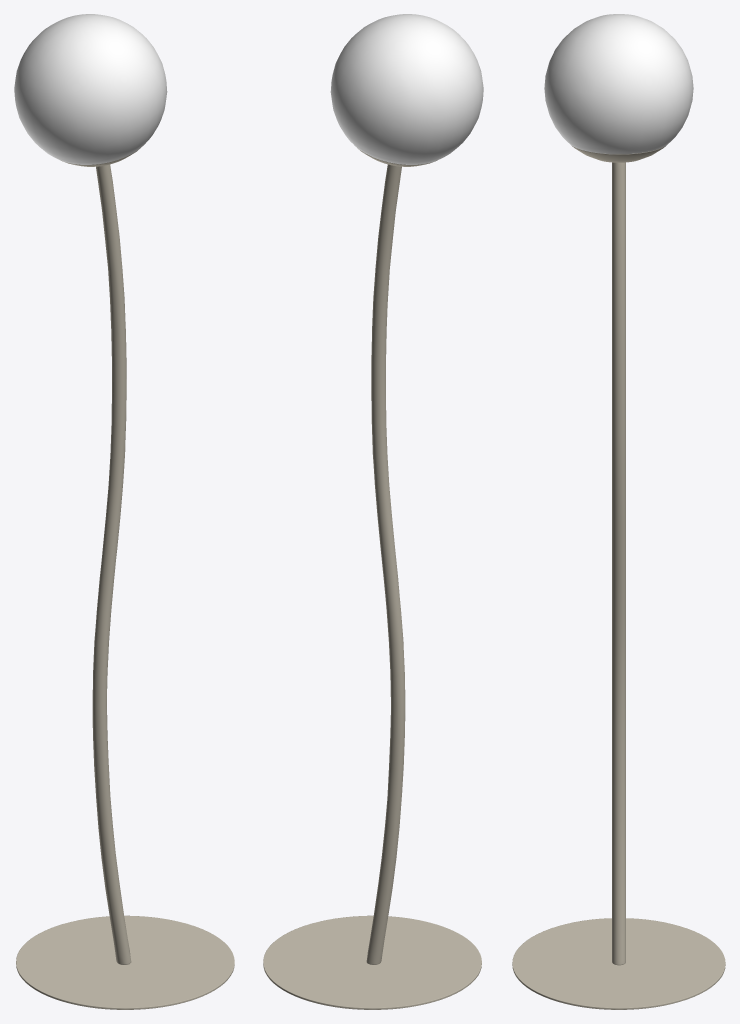
File: solvinden-solar-floor-lamp-outdoor-beige.glb
The picture shows the model from 3 angles, left to right: view 1: azimuth 30°, elevation 25°; view 2: azimuth 150°, elevation 25°; view 3: azimuth 270°, elevation 25°; orthographic projection. The views are drawn at different scales.
Visible parts, largest first — view 1: 002, 000; view 2: 002, 000; view 3: 002, 000.
Boxes of the visible parts, x1,y1,x2,y2 form: 002: [16, 148, 234, 1009]; 000: [14, 14, 167, 164]; 002: [263, 148, 481, 1009]; 000: [330, 14, 483, 164]; 002: [512, 146, 725, 1009]; 000: [544, 14, 693, 154].
Size of what is drawn, in the model's own units: 0.2583 by 1.2 by 0.25.
